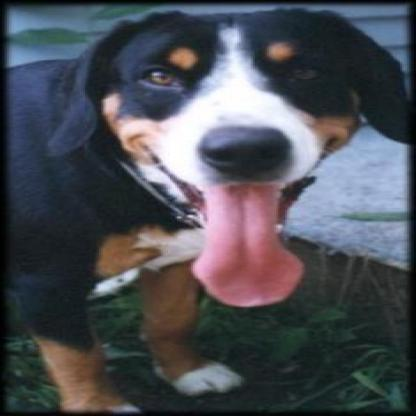EntleBucher: (0, 0, 407, 412)
